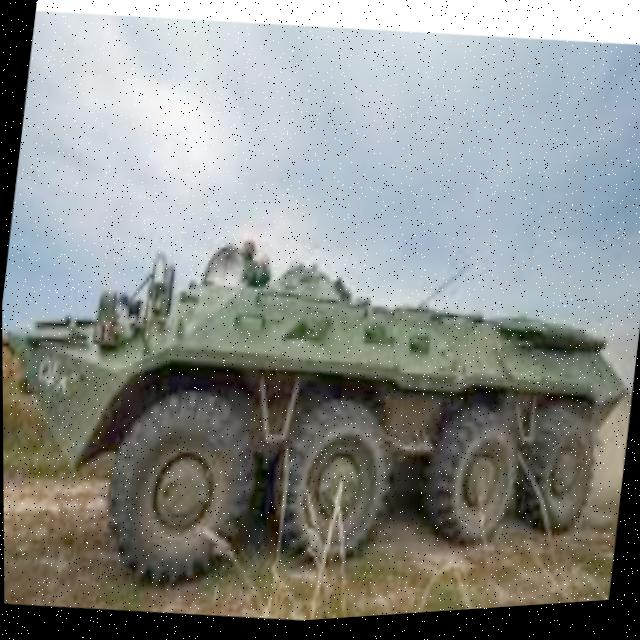MIL_APC: (1, 173, 640, 620)
